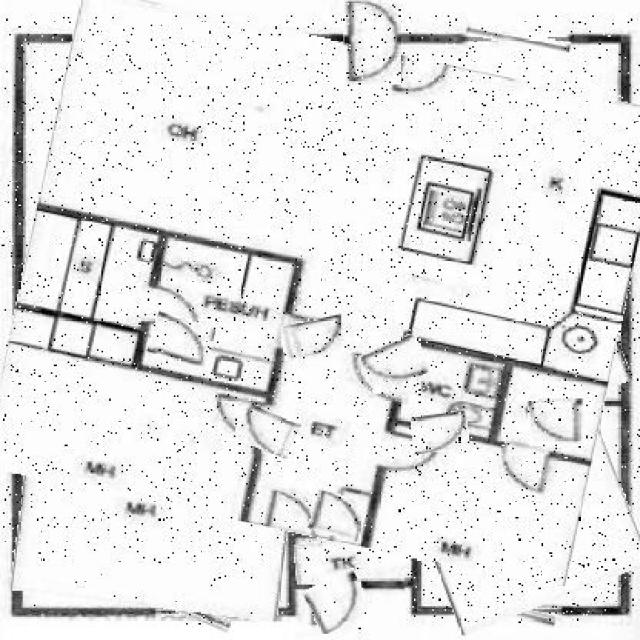door: (1, 15, 640, 559), (17, 398, 295, 614), (404, 388, 634, 622), (14, 258, 161, 409), (149, 262, 294, 409), (517, 316, 628, 406), (417, 316, 518, 410), (294, 536, 411, 582)
window: (343, 0, 400, 85), (306, 572, 369, 630), (362, 338, 428, 389), (149, 316, 214, 364), (237, 408, 298, 454), (282, 317, 349, 357), (529, 400, 583, 446), (310, 492, 364, 538), (412, 412, 468, 452)
zone: (108, 24, 282, 54), (465, 600, 557, 623), (154, 599, 232, 626), (466, 28, 571, 48)
